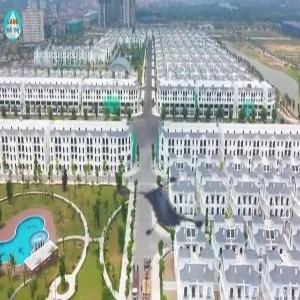drone: (127, 158, 228, 259)
